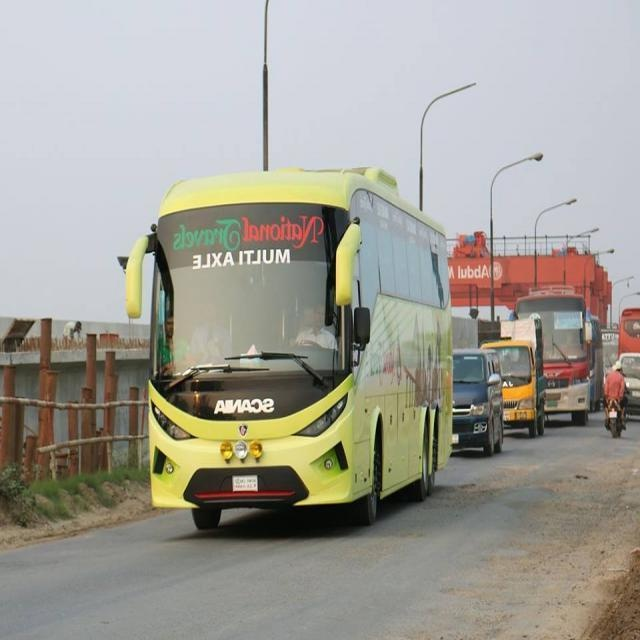bus: (108, 163, 475, 549), (509, 283, 618, 437)
